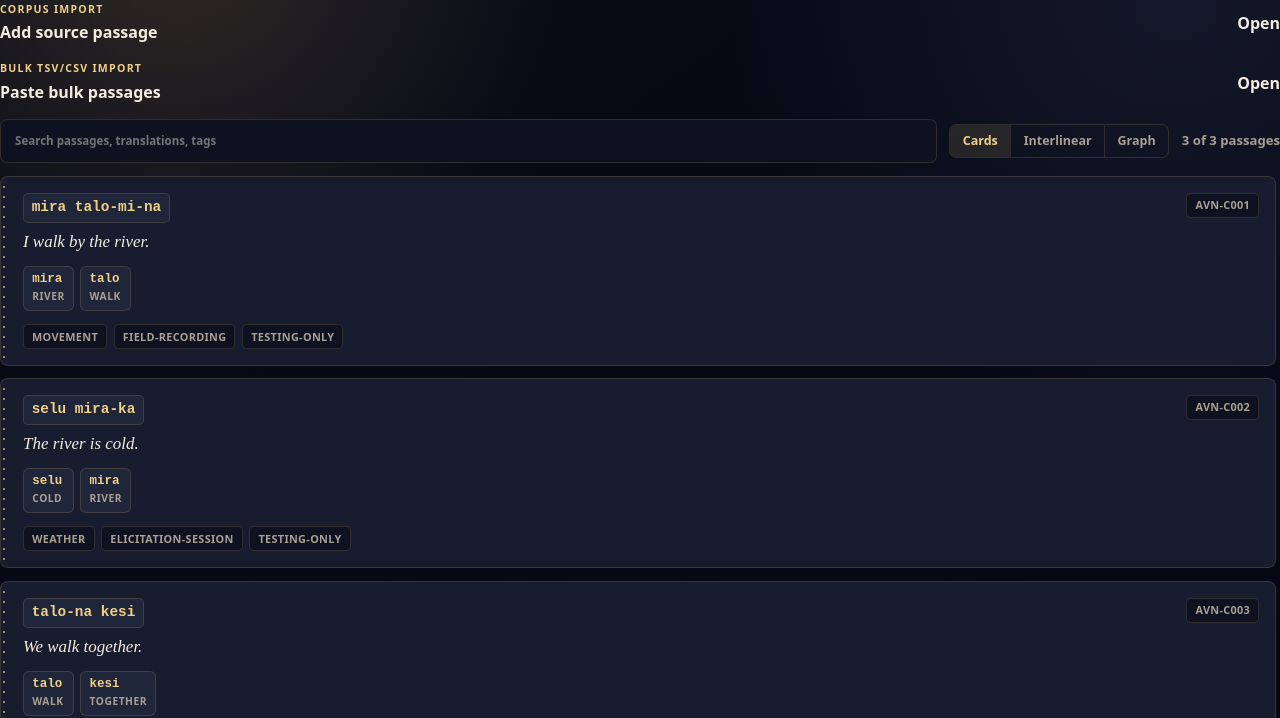
CorpusView network graph mode › filters visible nodes and their connected links by node type
This screenshot has width=1280, height=718.
Click the button "Graph" at point(1136, 141), box [1104,125,1168,157]
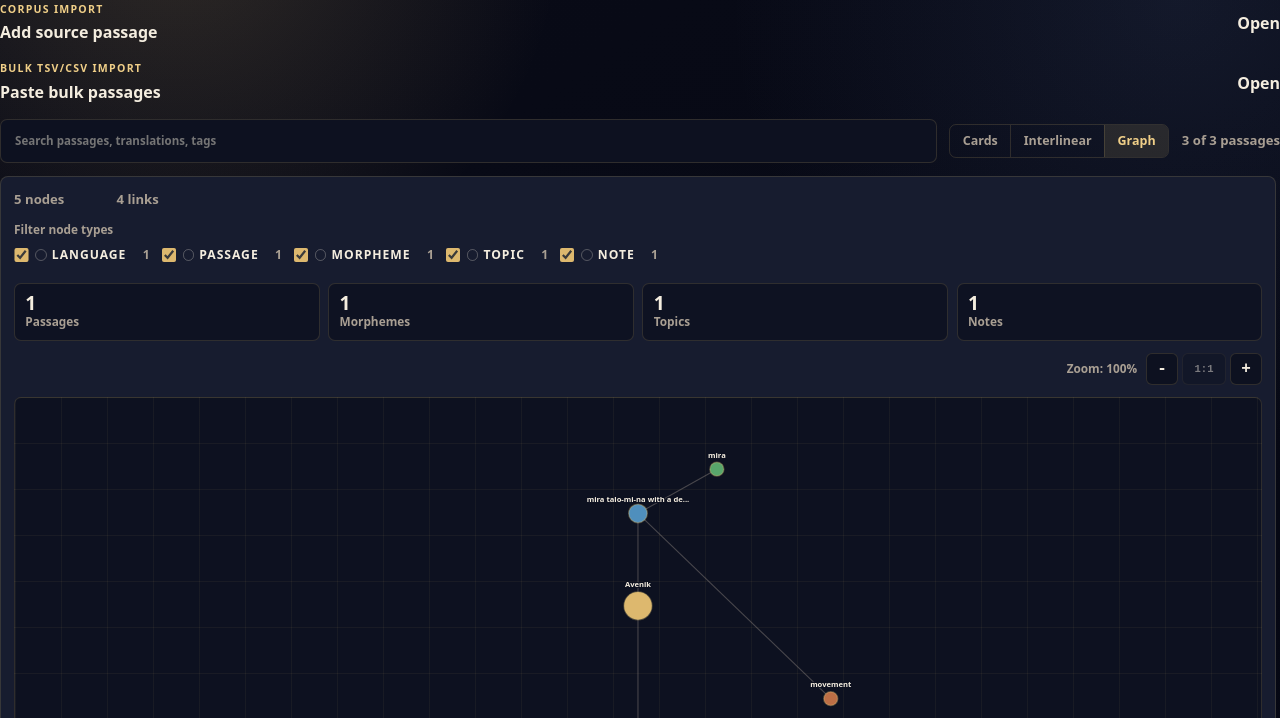
Expected: the button "Passage: mira talo-mi-na" is shown, [587,494,689,504]
Expected: the checkbox named "Passage, 1 available" is checked
Click the checkbox named "Passage, 1 available" at point(169, 255), box [162,248,176,262]
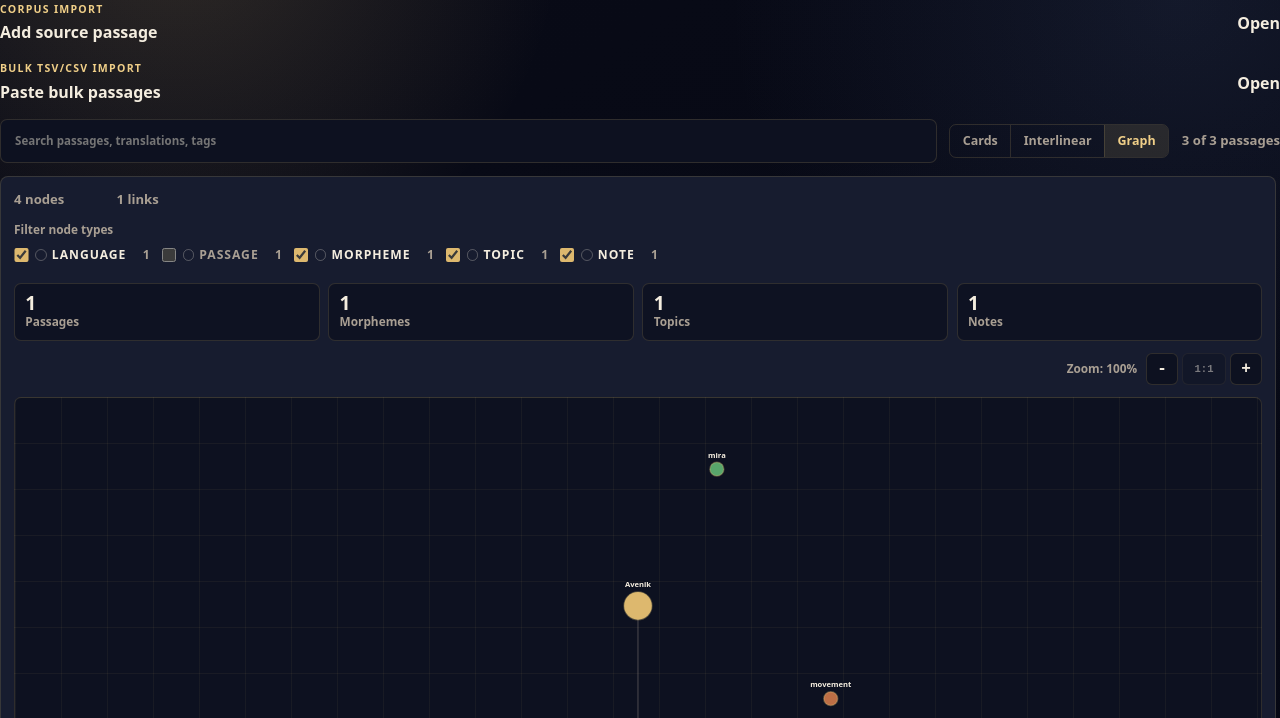
Expected: the checkbox named "Passage, 1 available" is not checked, [162,248,176,262]
Expected: the text "4 nodes" is shown, [14,190,64,208]
Expected: the text "1 links" is shown, [116,190,159,208]
